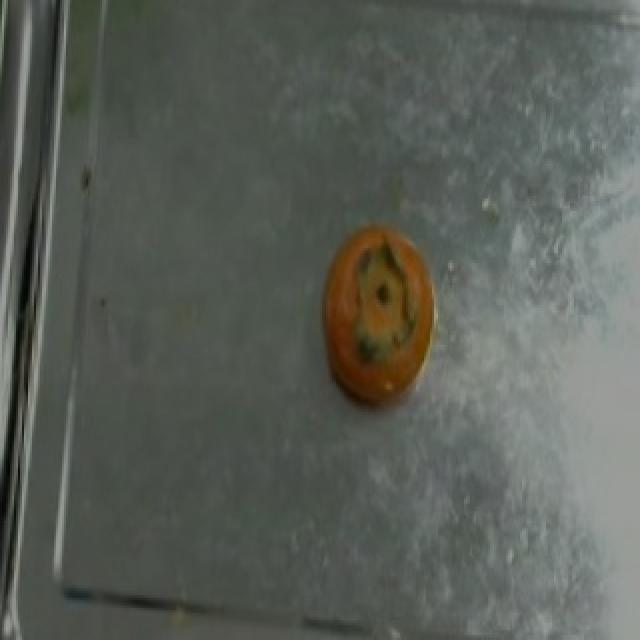Fruit: (308, 206, 458, 424)
